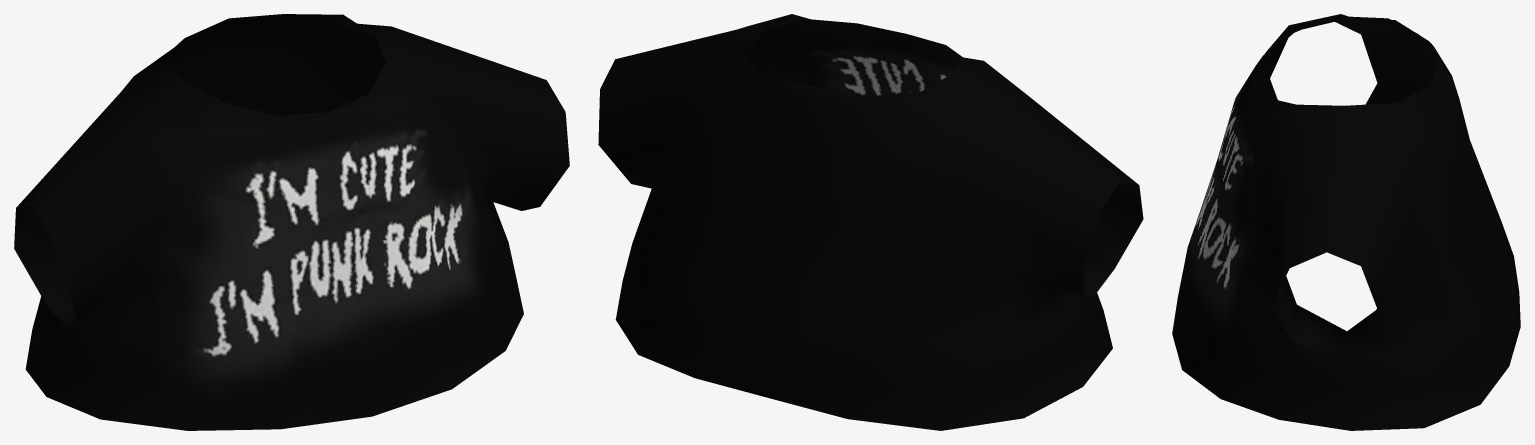
The model's file is Im_Cute_Im_Punk_Rock.glb.
3 renders of one model, left to right at view 1: azimuth 30°, elevation 25°; view 2: azimuth 150°, elevation 25°; view 3: azimuth 270°, elevation 25°, orthographic. The views are drawn at different scales.
Visible parts, largest first — view 1: Im_Cute_Im_Punk_Rock; view 2: Im_Cute_Im_Punk_Rock; view 3: Im_Cute_Im_Punk_Rock.
Part boxes in pixels (x1,y1,x2,y2): Im_Cute_Im_Punk_Rock: (14,14,569,430); Im_Cute_Im_Punk_Rock: (598,14,1143,430); Im_Cute_Im_Punk_Rock: (1172,14,1520,430).
Size of the model in its own units: 0.6125 by 0.3357 by 0.3851.
Materials: 1 (1 with a texture image).
